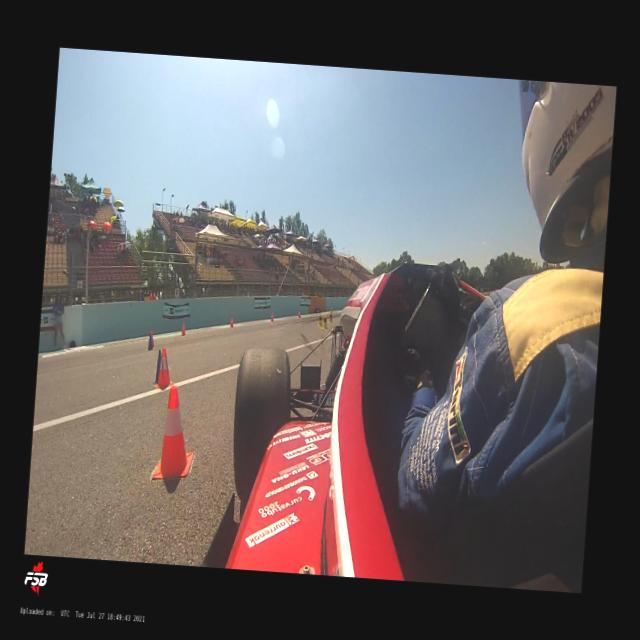orange_cone: (152, 384, 198, 482), (152, 346, 175, 392), (149, 330, 155, 348), (326, 312, 334, 322), (181, 322, 186, 336), (229, 316, 234, 328), (152, 292, 157, 300), (270, 312, 274, 322), (149, 292, 153, 300), (297, 310, 301, 318), (330, 308, 332, 314)
unknown_cone: (152, 348, 161, 382), (146, 332, 154, 350), (136, 290, 142, 300), (140, 290, 144, 300)
yellow_cone: (321, 314, 328, 330), (317, 312, 323, 326), (143, 289, 147, 301), (146, 291, 150, 301)
